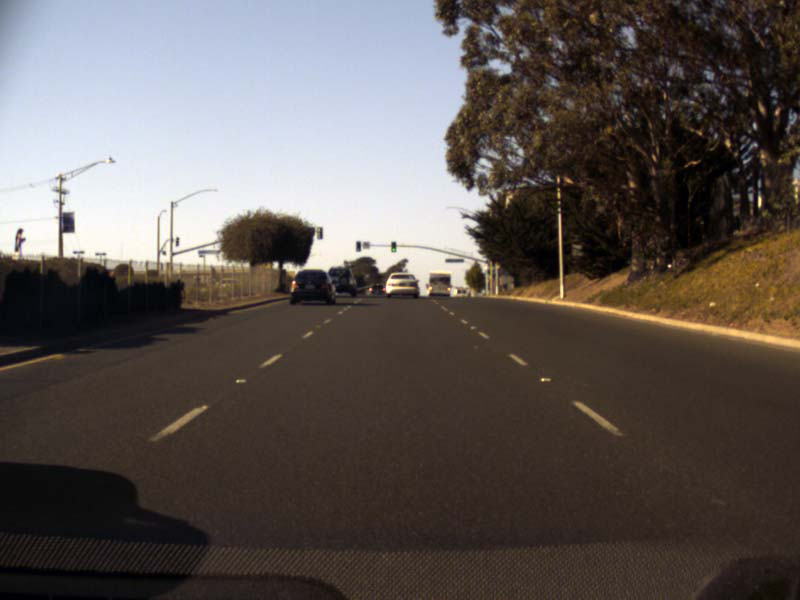Green: (355, 241, 360, 250), (391, 242, 395, 251)
